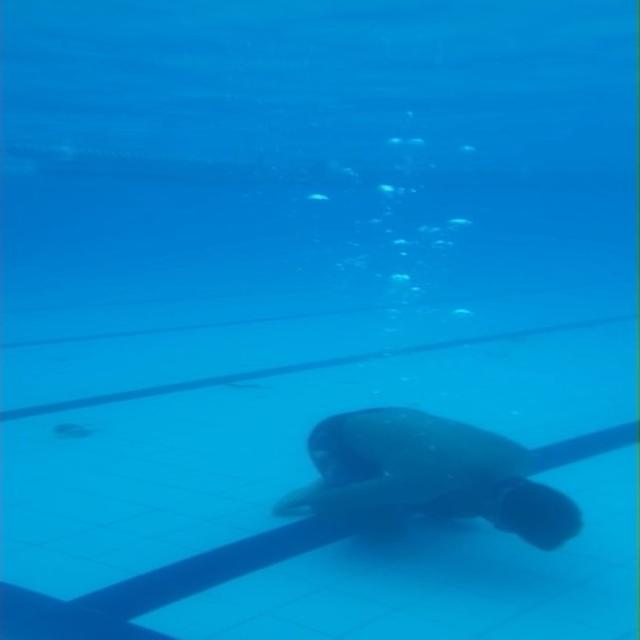Drowning: (276, 404, 586, 554)
